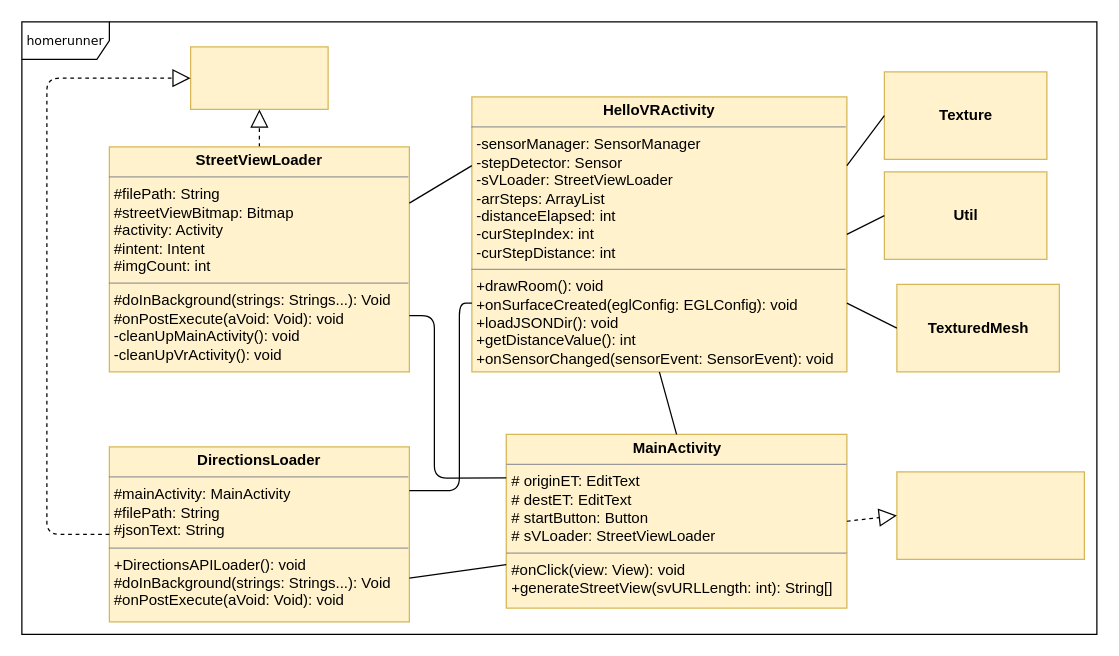
The diagram is 1119 pixels wide and 656 high, and some of its shapes have lost their labels. The centre of each missing label's shape, as x and y in pixels:
"«interface» AsyncTask" goes at point 258,77.
"«interface» View.OnClickListener" goes at point 990,515.
